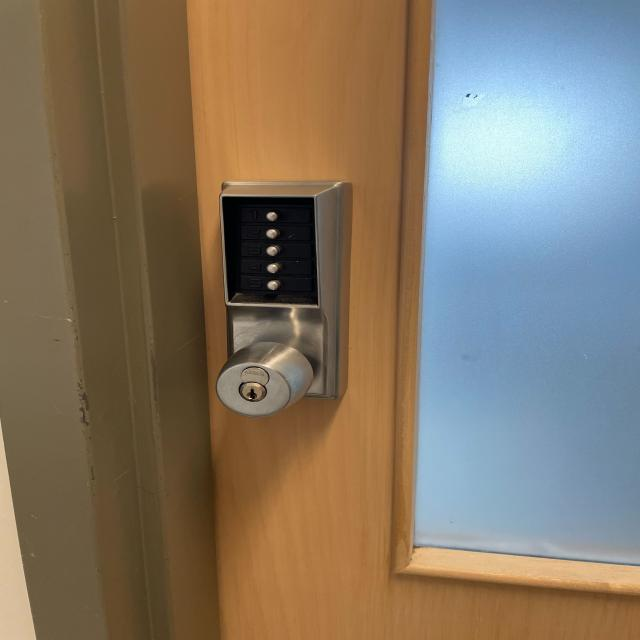door-knob: (217, 342, 313, 418)
